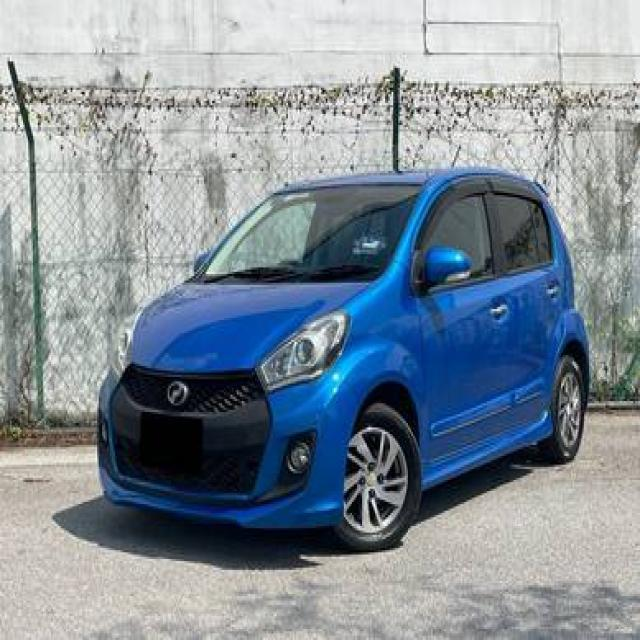PeroduaMyvi: (93, 162, 592, 550)
